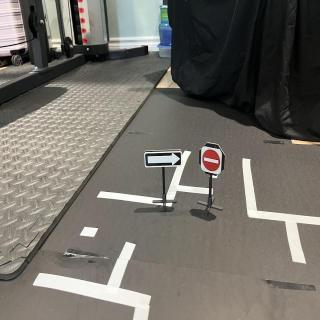sign_noentry: (201, 147, 223, 177)
sign_oneway_right: (144, 152, 184, 170)
